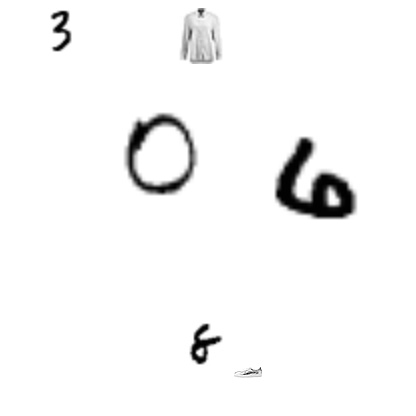0: (101, 94, 213, 206)
3: (33, 1, 89, 57)
6: (256, 130, 368, 242)
8: (174, 316, 230, 372)
Shirt: (172, 8, 228, 64)
Sneaker: (234, 358, 262, 386)
